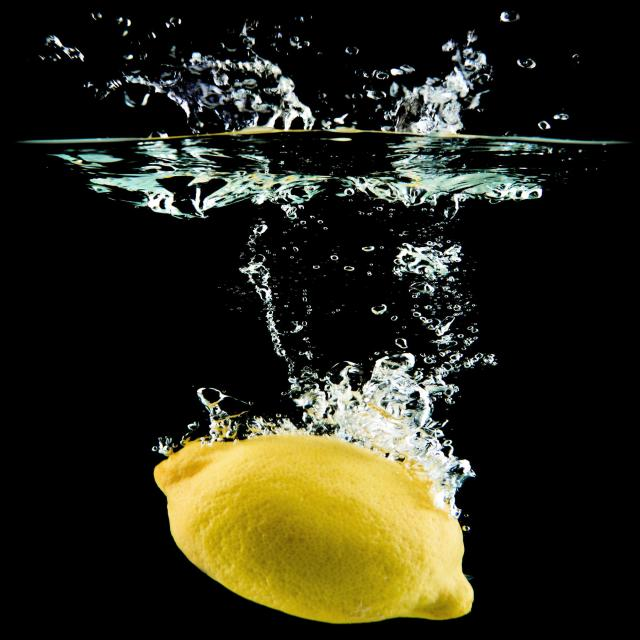lemon: (147, 430, 487, 628)
